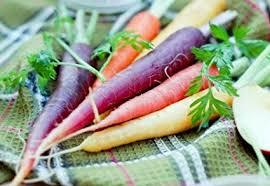Organic: (3, 1, 270, 186)
